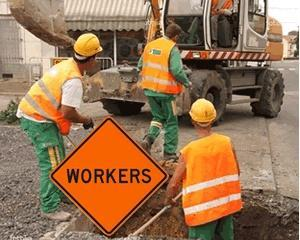helmet: (72, 32, 102, 58), (190, 99, 215, 124)
no-helmet: (163, 22, 184, 42)
no-vest: (147, 39, 180, 95)
person: (178, 98, 249, 239), (138, 23, 183, 157)
vest: (182, 132, 242, 219), (20, 61, 78, 122)
